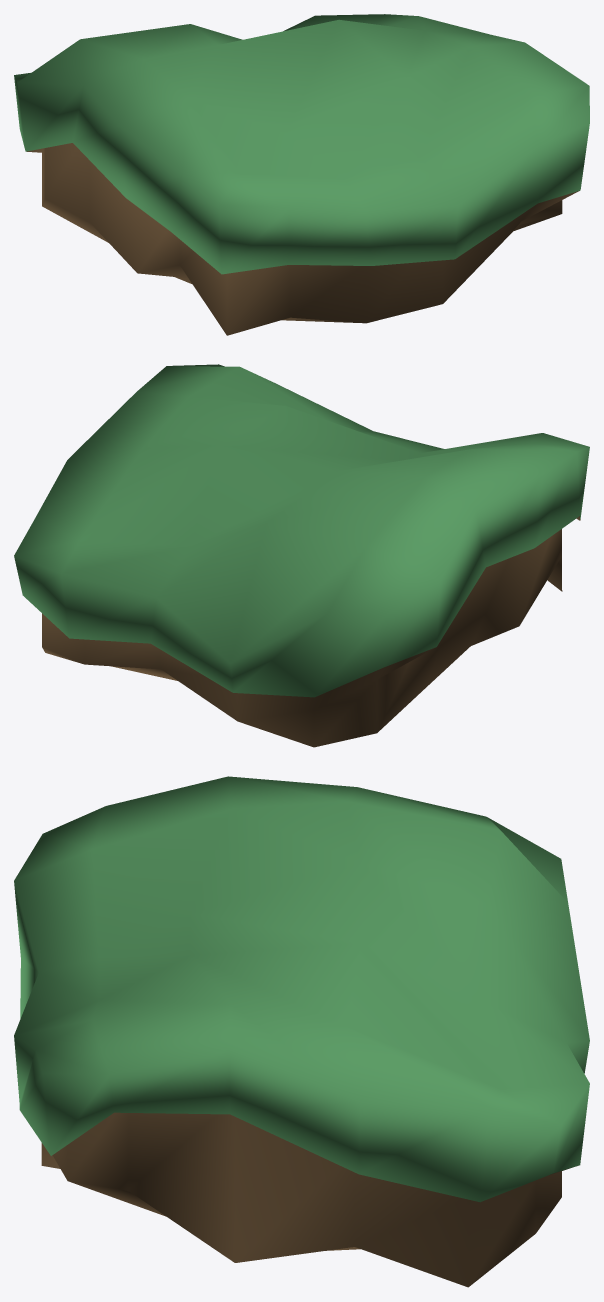
The model's file is island01-2.fbx.
The picture shows the model from 3 angles, top to bottom: view 1: azimuth 30°, elevation 25°; view 2: azimuth 150°, elevation 25°; view 3: azimuth 270°, elevation 25°; orthographic projection. The views are drawn at different scales.
Visible parts, largest first — view 1: island01-2; view 2: island01-2; view 3: island01-2.
Part boxes in pixels (x1,y1,x2,y2): island01-2: [14, 14, 589, 335]; island01-2: [14, 364, 589, 747]; island01-2: [14, 776, 589, 1287].
Size of the model in its own units: 5542 by 3299 by 5163.
